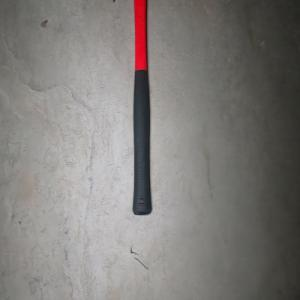Hammer: (112, 0, 170, 216)
